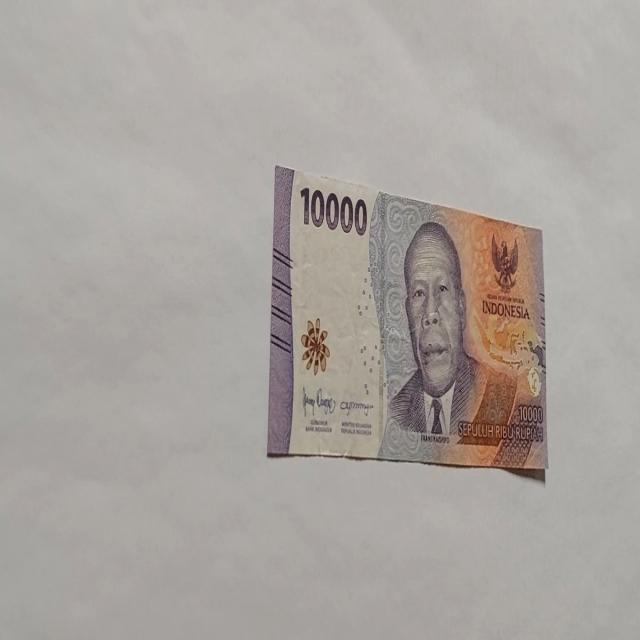sepuluh ribu rupiah: (266, 163, 548, 473), (379, 217, 518, 458)
